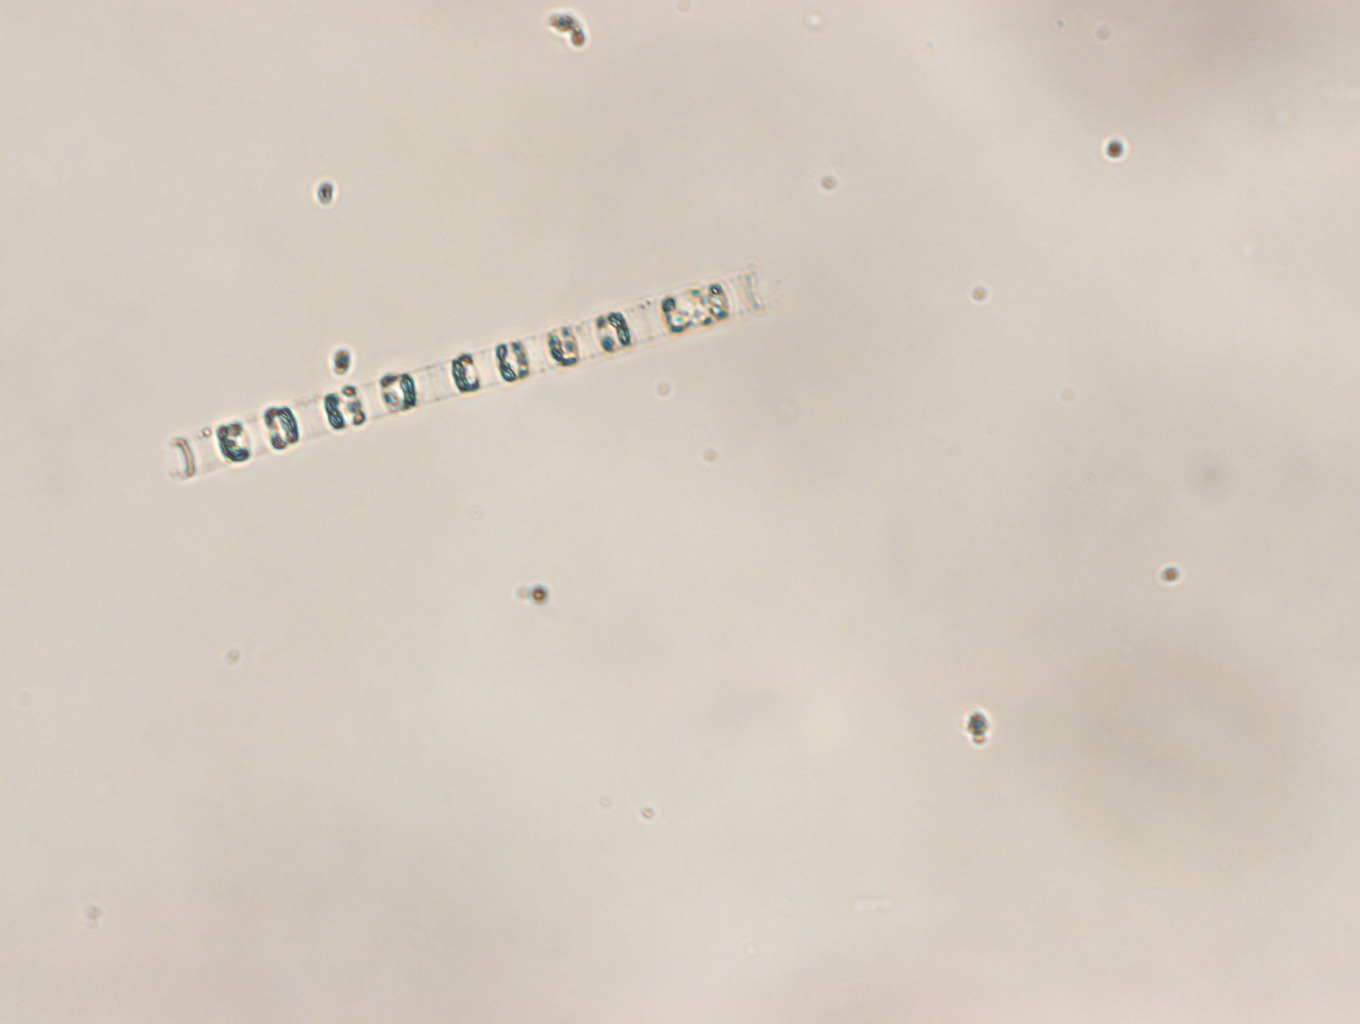skeletonema: (167, 267, 778, 483)
